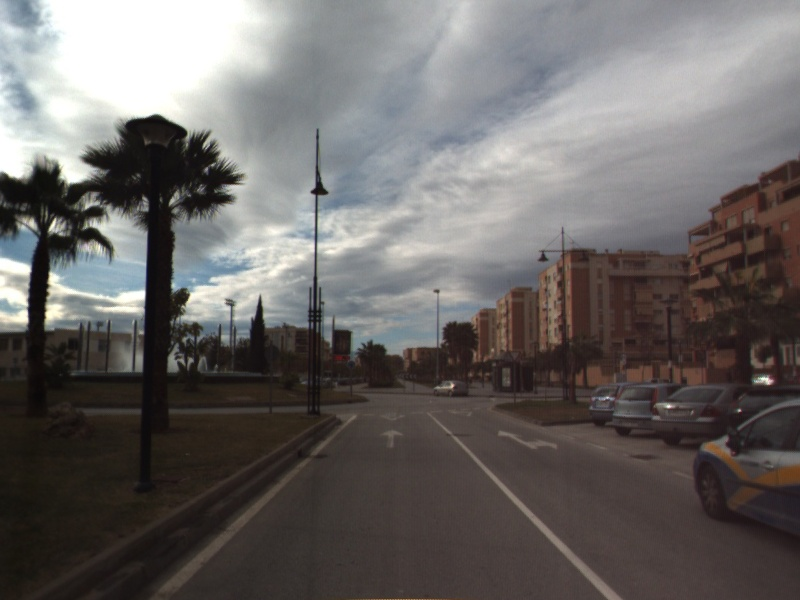STRAIGHT: (378, 427, 405, 450)
STRAIGHT_RIGHT: (496, 428, 559, 452)
